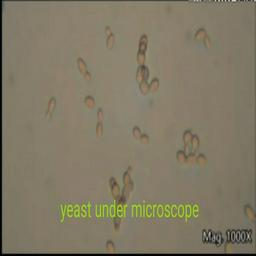Yeast: (77, 58, 92, 83), (148, 80, 160, 94), (111, 183, 120, 199), (106, 34, 115, 49), (84, 96, 95, 108), (195, 29, 206, 40), (177, 151, 186, 164), (139, 82, 148, 94), (96, 123, 103, 137), (133, 127, 141, 139), (184, 131, 192, 143), (204, 36, 211, 49), (192, 135, 199, 148), (107, 242, 115, 253), (138, 52, 145, 64), (187, 155, 196, 164), (123, 172, 130, 183), (141, 135, 149, 144), (198, 156, 206, 165), (98, 108, 103, 121)
